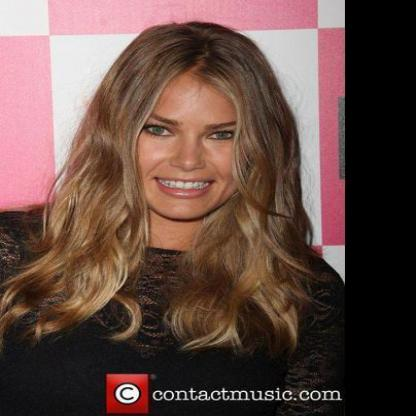long-hair: (31, 222, 315, 255)
